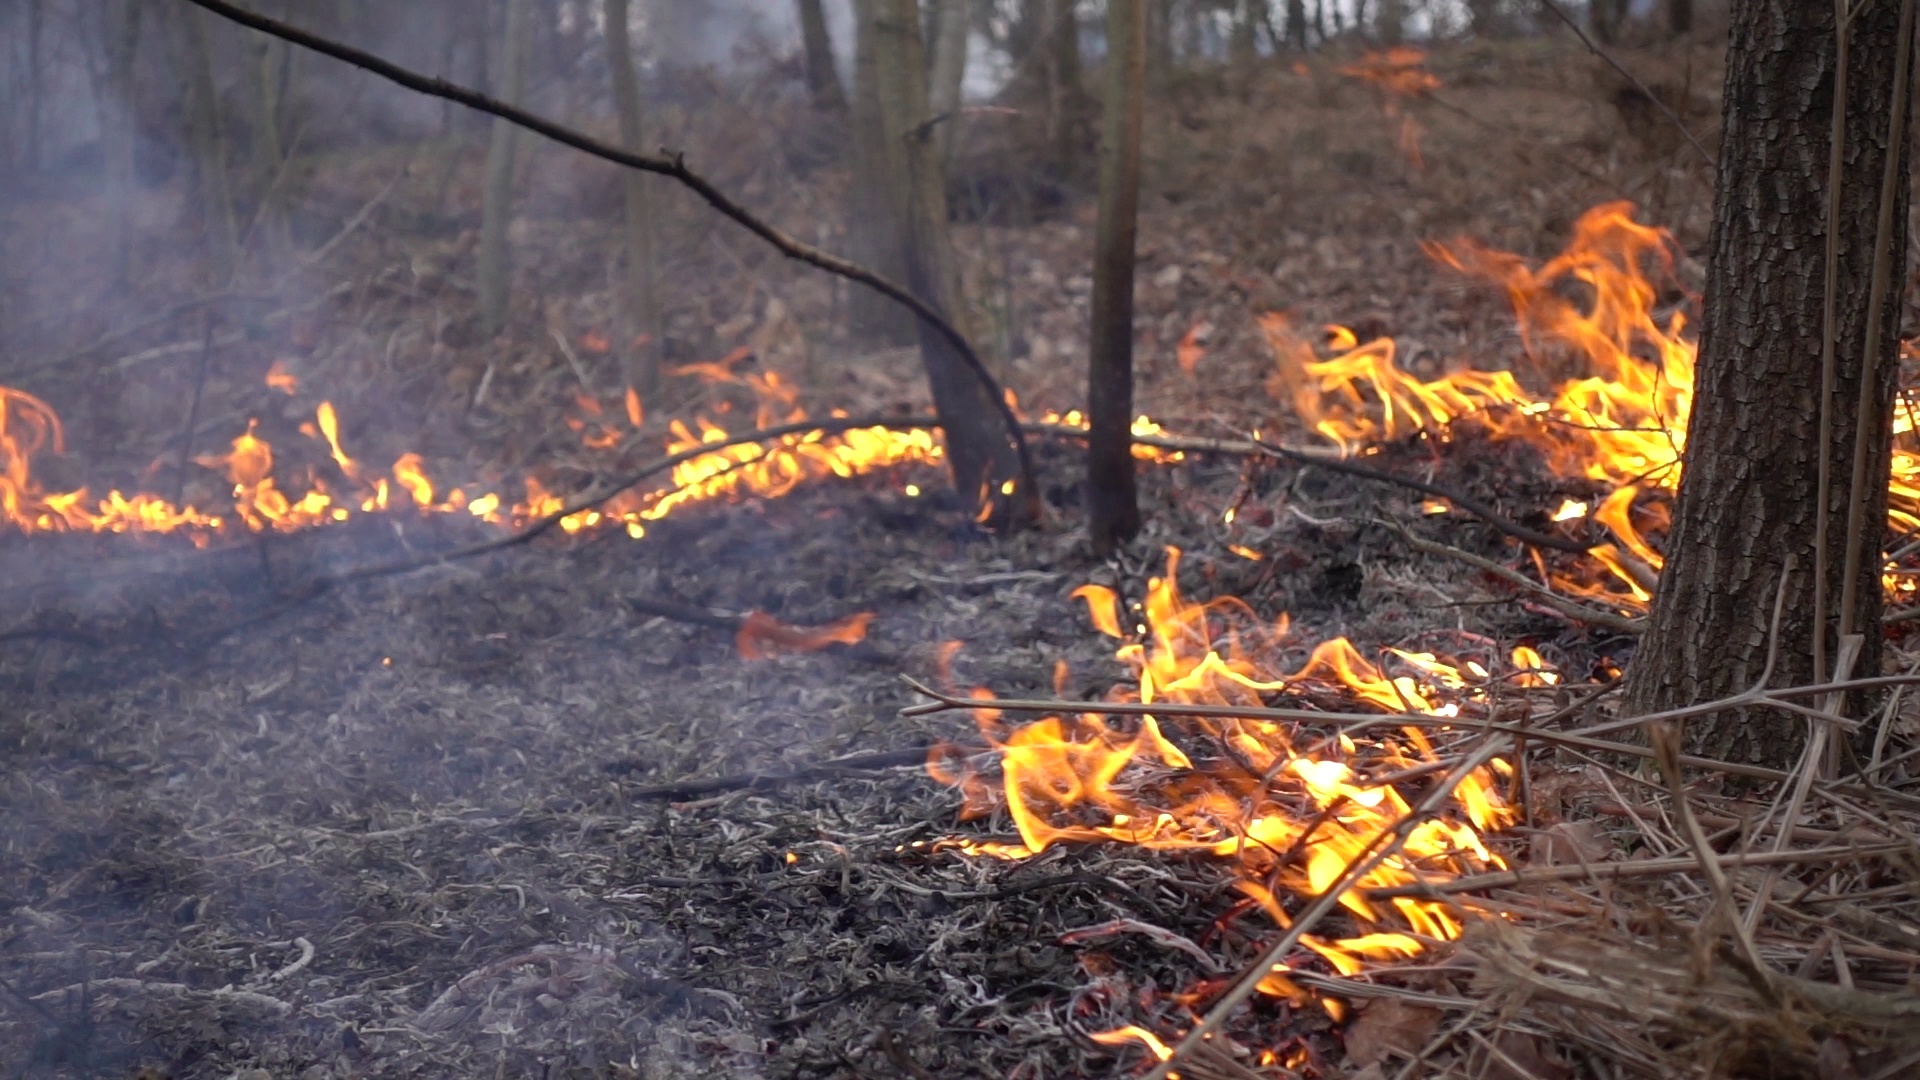fire: (972, 592, 1503, 957), (1265, 214, 1685, 603), (645, 402, 940, 534), (225, 411, 436, 530), (1, 390, 175, 530), (1886, 392, 1920, 538)
